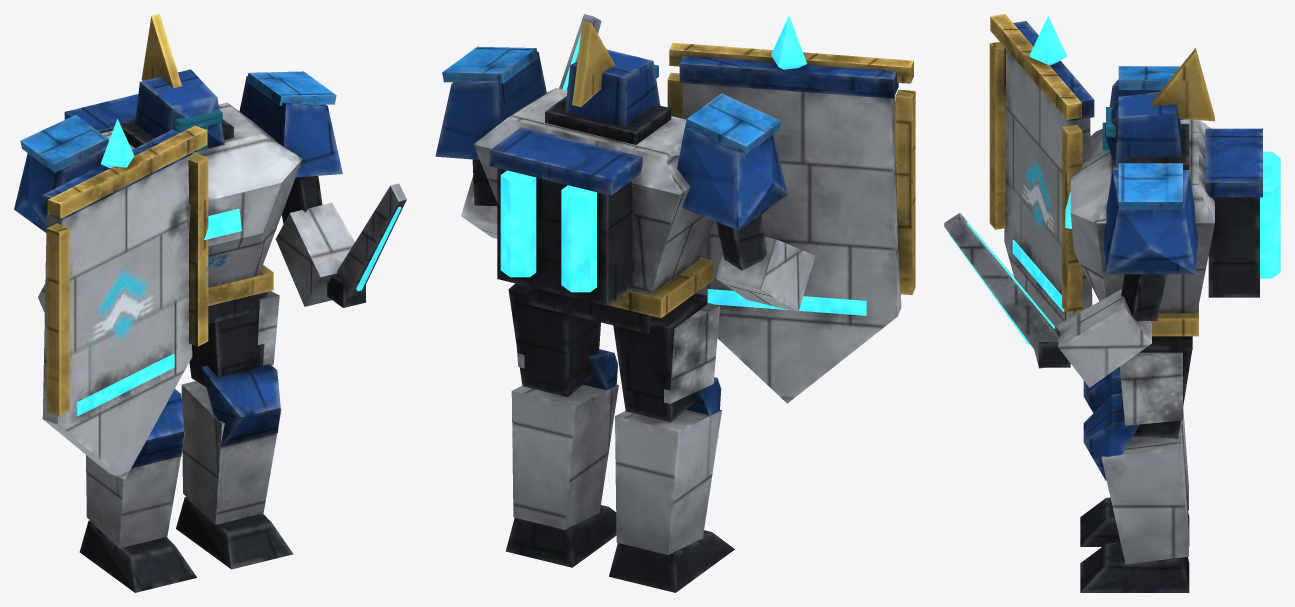
File: u_warden3_w.glb
3 views of the same model, side by side, from view 1: azimuth 30°, elevation 25°; view 2: azimuth 150°, elevation 25°; view 3: azimuth 270°, elevation 25° (orthographic). The views are drawn at different scales.
Visible parts, largest first — view 1: u_warden3_w; view 2: u_warden3_w; view 3: u_warden3_w.
Part boxes in pixels (x1,y1,x2,y2): u_warden3_w: (14,14,406,592); u_warden3_w: (435,14,915,592); u_warden3_w: (944,14,1280,592).
Bounding box in the file's own units: 1.52 × 2.1 × 1.27.
Materials: 1 (1 with a texture image).
